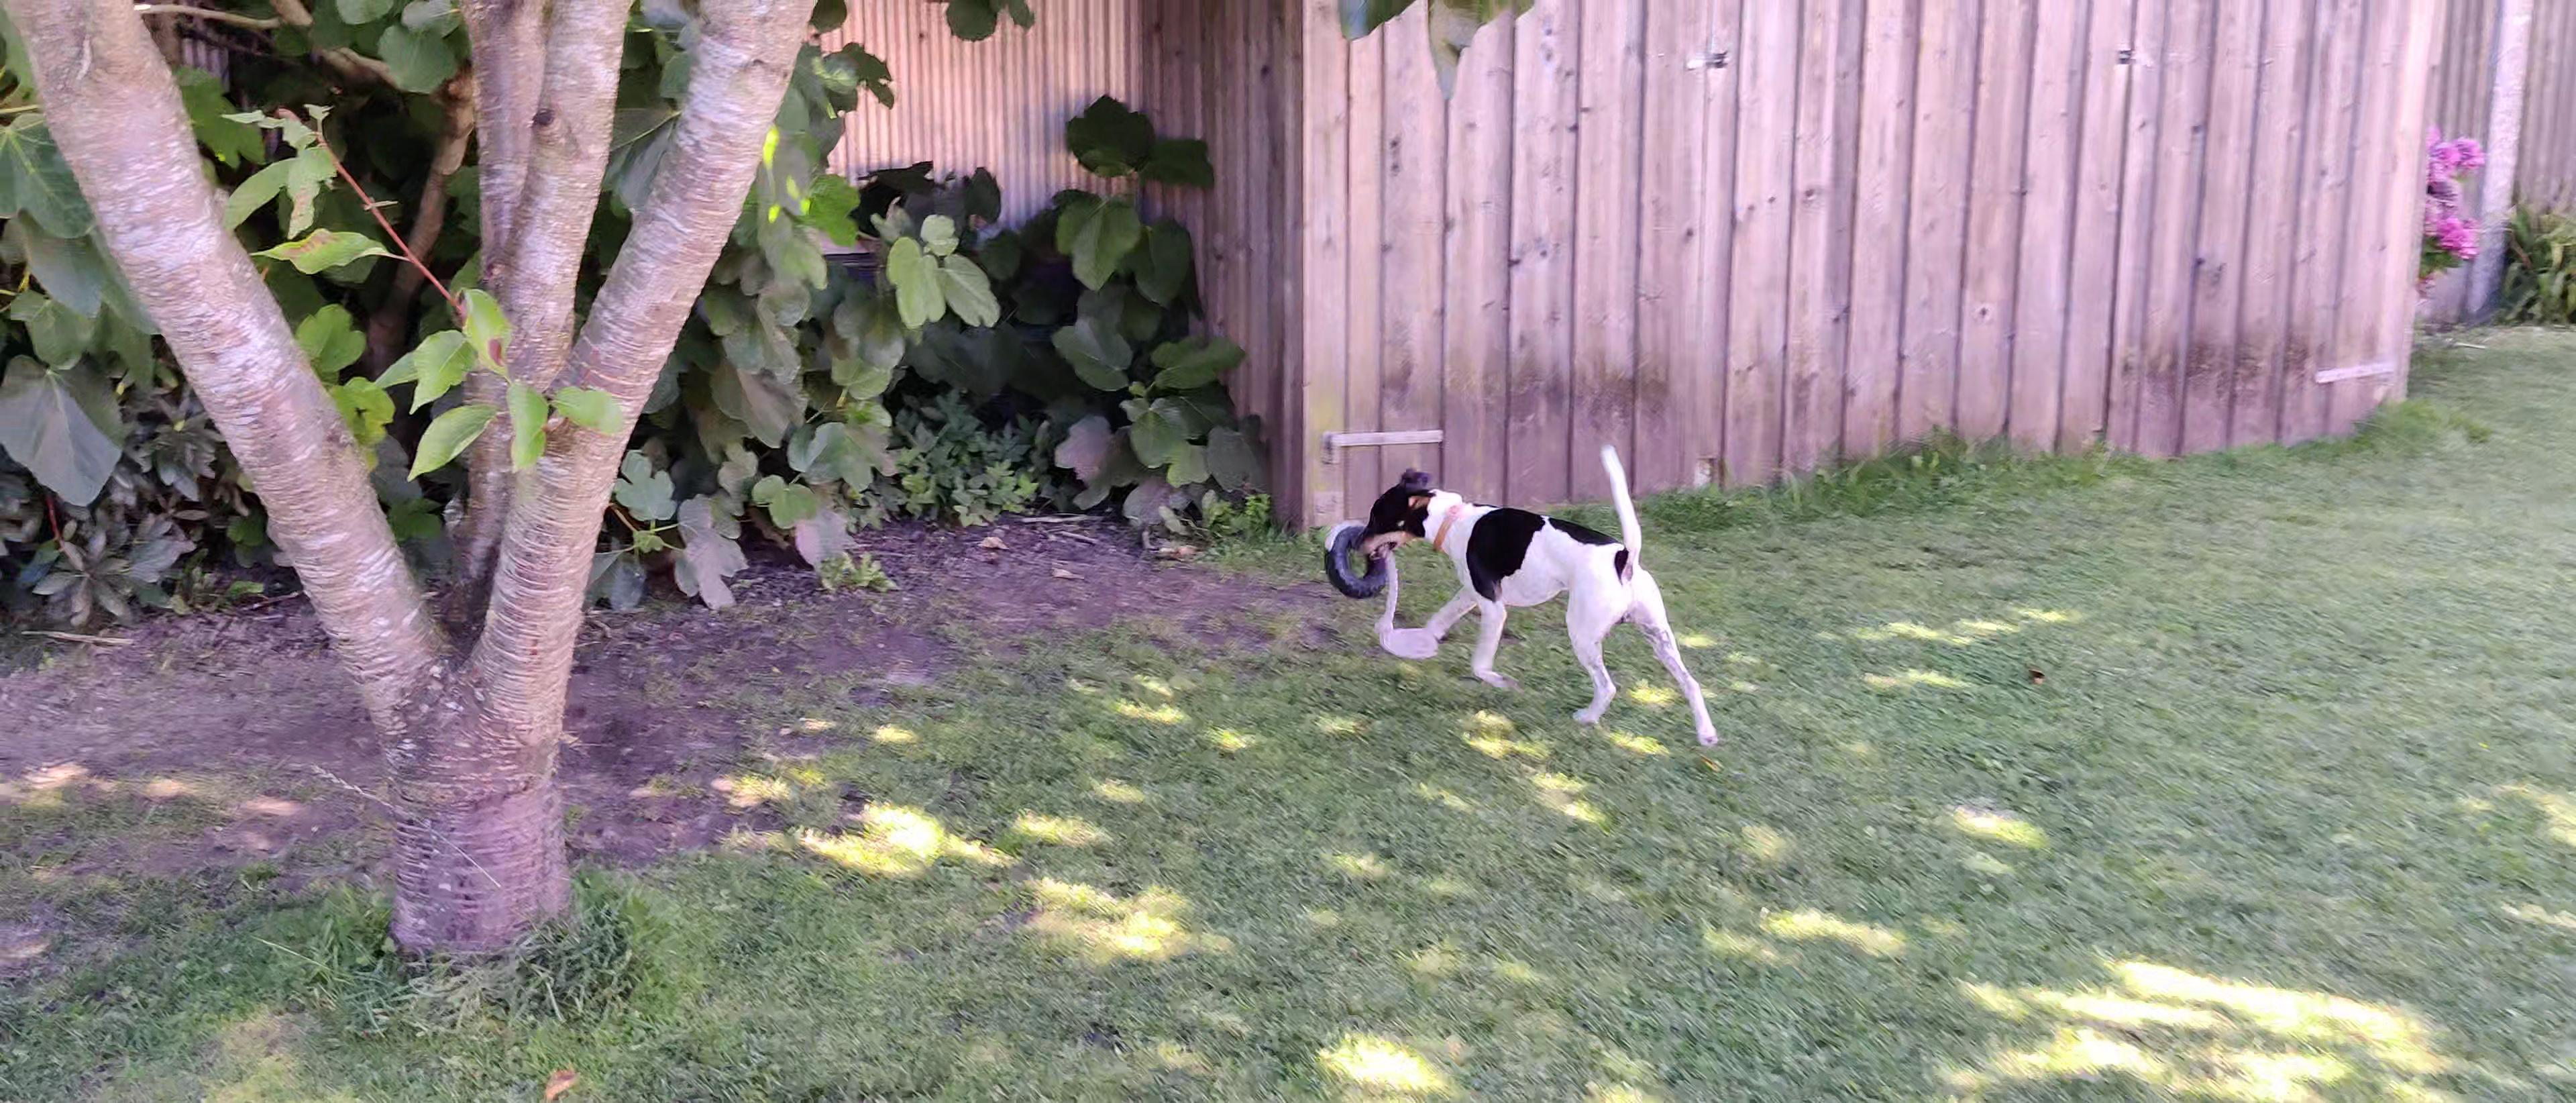Dog: (1344, 441, 1723, 746)
